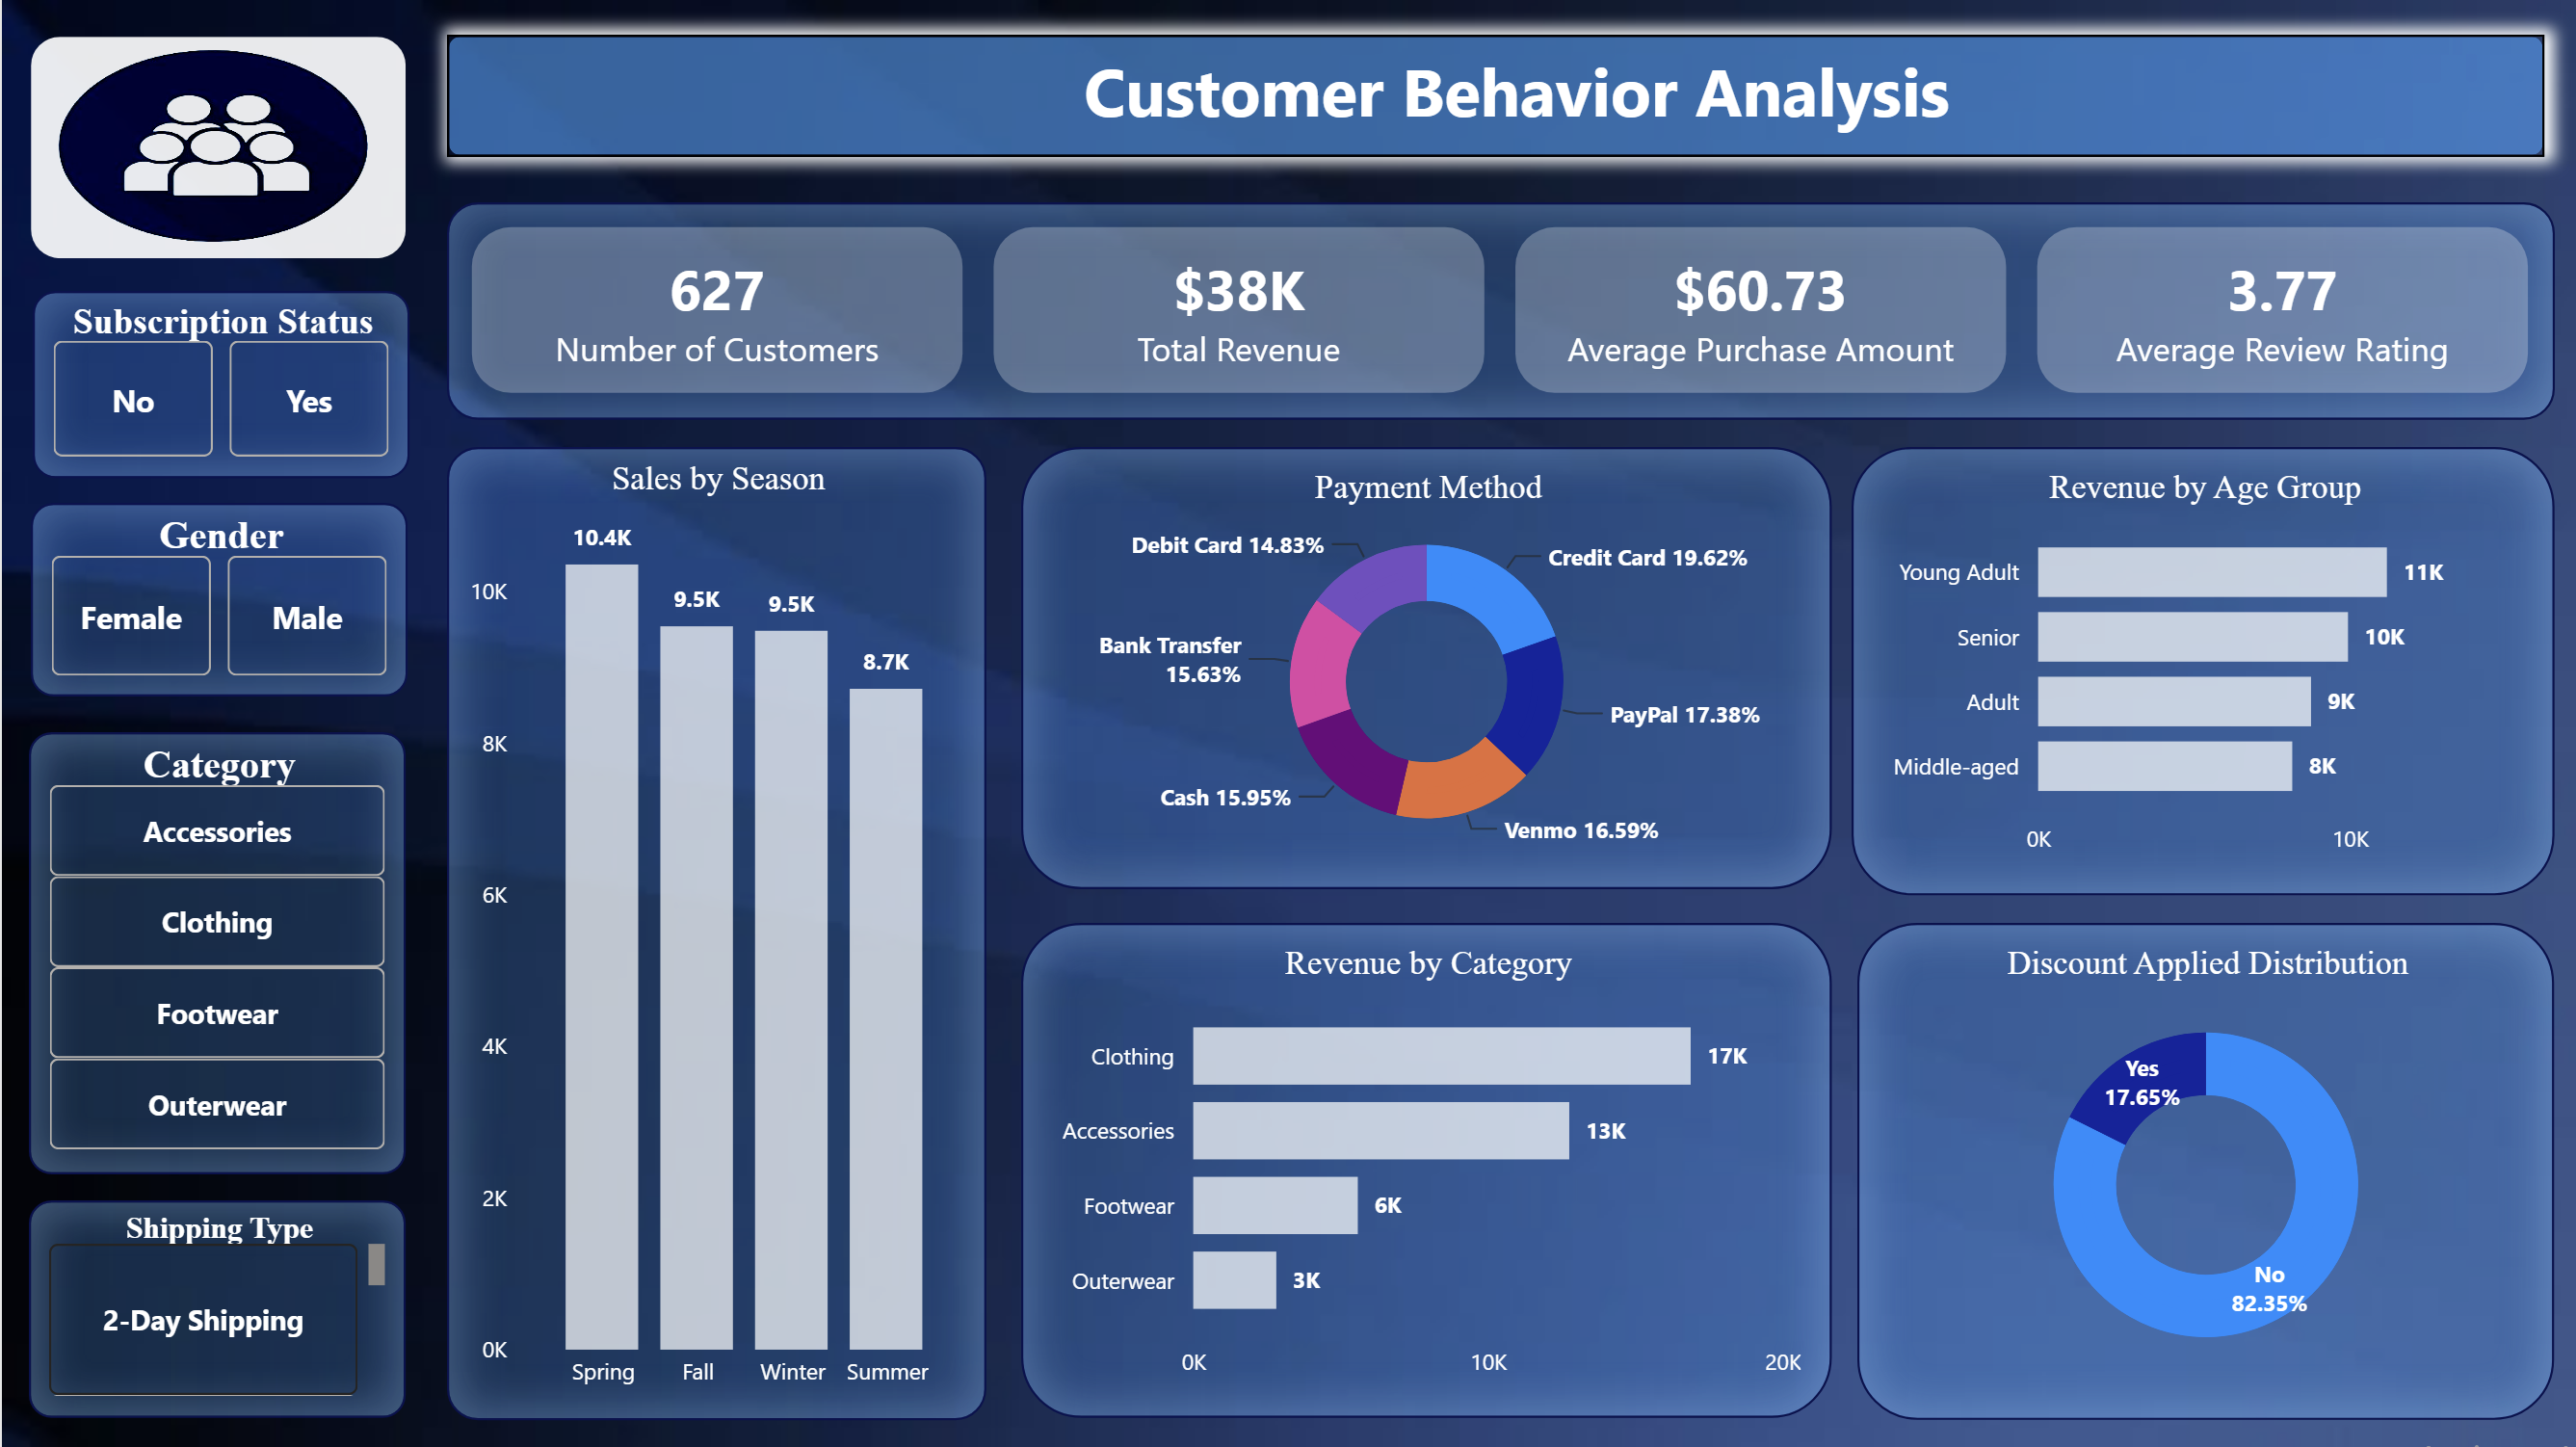

The page's visual inventory and layout, read from the dashboard file:
{"tool":"powerbi","page":{"name":"customer_behavior_analysis","canvas":[1245,750],"ordinal":0},"visuals":[{"type":"cardVisual","fields":{"Data":["public customer.Number of customers","public customer.Total Revenue","public customer.Average Purchase Amount","public customer.Average Review Rating"]},"box":[214.6,122.1,1018.2,104.8],"z":0},{"type":"shape","box":[214.6,40.7,1013.1,59],"z":1000},{"type":"textbox","box":[408.9,40.7,655,100.7],"z":2000},{"type":"donutChart","title":"Payment Method","fields":{"Category":["public customer.payment_method"],"Y":["CountNonNull(public customer.customer_id)"]},"box":[492.3,240,391.6,213.6],"z":3000},{"type":"clusteredBarChart","title":"Revenue by Category","fields":{"Category":["public customer.category"],"Y":["Sum(public customer.purchase_amount)"]},"box":[492.3,469.9,391.6,239],"z":4000},{"type":"clusteredColumnChart","title":"Sales by Season","fields":{"Category":["public customer.season"],"Y":["Sum(public customer.purchase_amount)"]},"box":[214.6,240,260.4,469.9],"z":5000},{"type":"advancedSlicerVisual","fields":{"Values":["public customer.subscription_status"]},"box":[15.3,164.8,182.1,90.5],"z":6000},{"type":"advancedSlicerVisual","title":"Gender","fields":{"Values":["public customer.gender"]},"box":[14.2,267.5,182.1,93.6],"z":7000},{"type":"advancedSlicerVisual","fields":{"Values":["public customer.category"]},"box":[13.2,377.4,182.1,213.6],"z":8000},{"type":"advancedSlicerVisual","fields":{"Values":["public customer.shipping_type"]},"box":[13.2,604.2,182.1,104.8],"z":9000},{"type":"clusteredBarChart","title":"Revenue by Age Group","fields":{"Y":["Sum(public customer.purchase_amount)"],"Category":["public customer.age_group"]},"box":[893.1,240,339.7,216.7],"z":10000},{"type":"pieChart","title":"Discount Applied Distribution","fields":{"Category":["public customer.discount_applied"],"Y":["Sum(public customer.customer_id)"]},"box":[896.1,469.9,336.7,240],"z":10001},{"type":"image","box":[13.2,40.7,183.1,108.8],"z":10002}]}

Visuals, with their boxes in screenshot pixels (x1, y1, x2, y2):
cardVisual - public customer.Number of customers x public customer.Total Revenue: <box>439,197,2525,411</box>
shape: <box>439,30,2514,150</box>
textbox: <box>837,30,2179,236</box>
"Payment Method" donutChart: <box>1009,437,1810,876</box>
"Revenue by Category" clusteredBarChart: <box>1009,908,1810,1398</box>
"Sales by Season" clusteredColumnChart: <box>439,437,973,1400</box>
advancedSlicerVisual - public customer.subscription_status: <box>32,284,405,469</box>
"Gender" advancedSlicerVisual: <box>29,494,402,686</box>
advancedSlicerVisual - public customer.category: <box>27,720,400,1157</box>
advancedSlicerVisual - public customer.shipping_type: <box>27,1184,400,1399</box>
"Revenue by Age Group" clusteredBarChart: <box>1829,437,2525,881</box>
"Discount Applied Distribution" pieChart: <box>1835,908,2525,1400</box>
image: <box>27,30,402,252</box>
